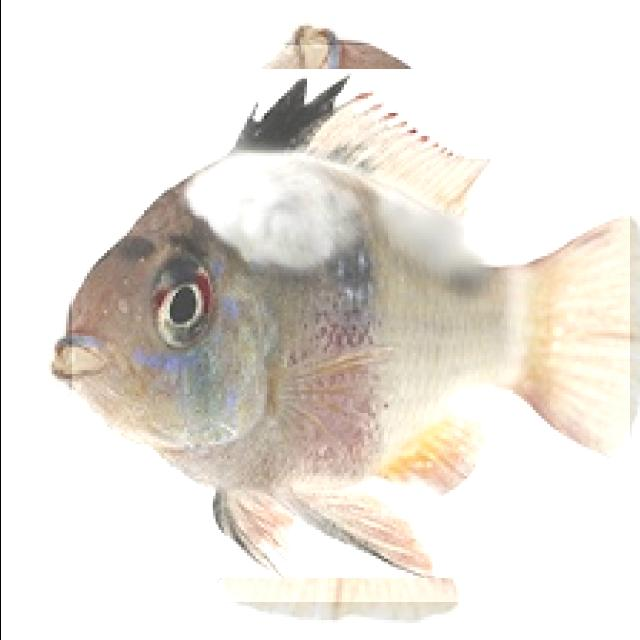Gill Disease: (71, 45, 628, 602)
